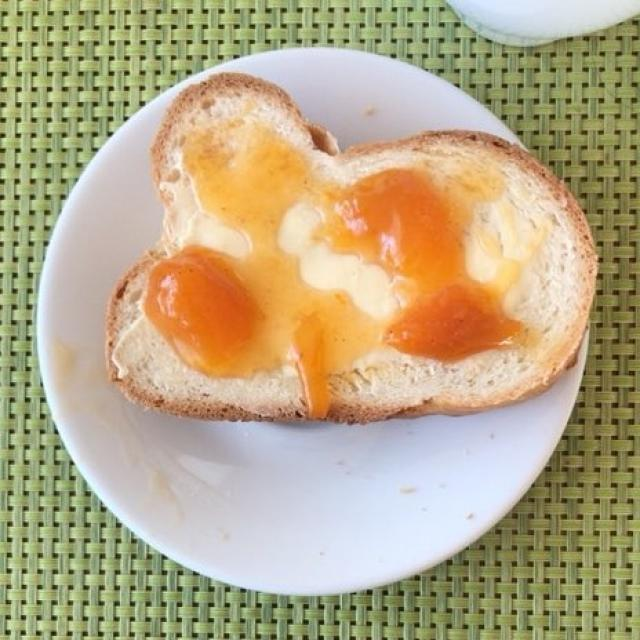bread: (114, 74, 587, 417)
butter: (161, 150, 513, 378)
jam: (119, 136, 511, 427)
